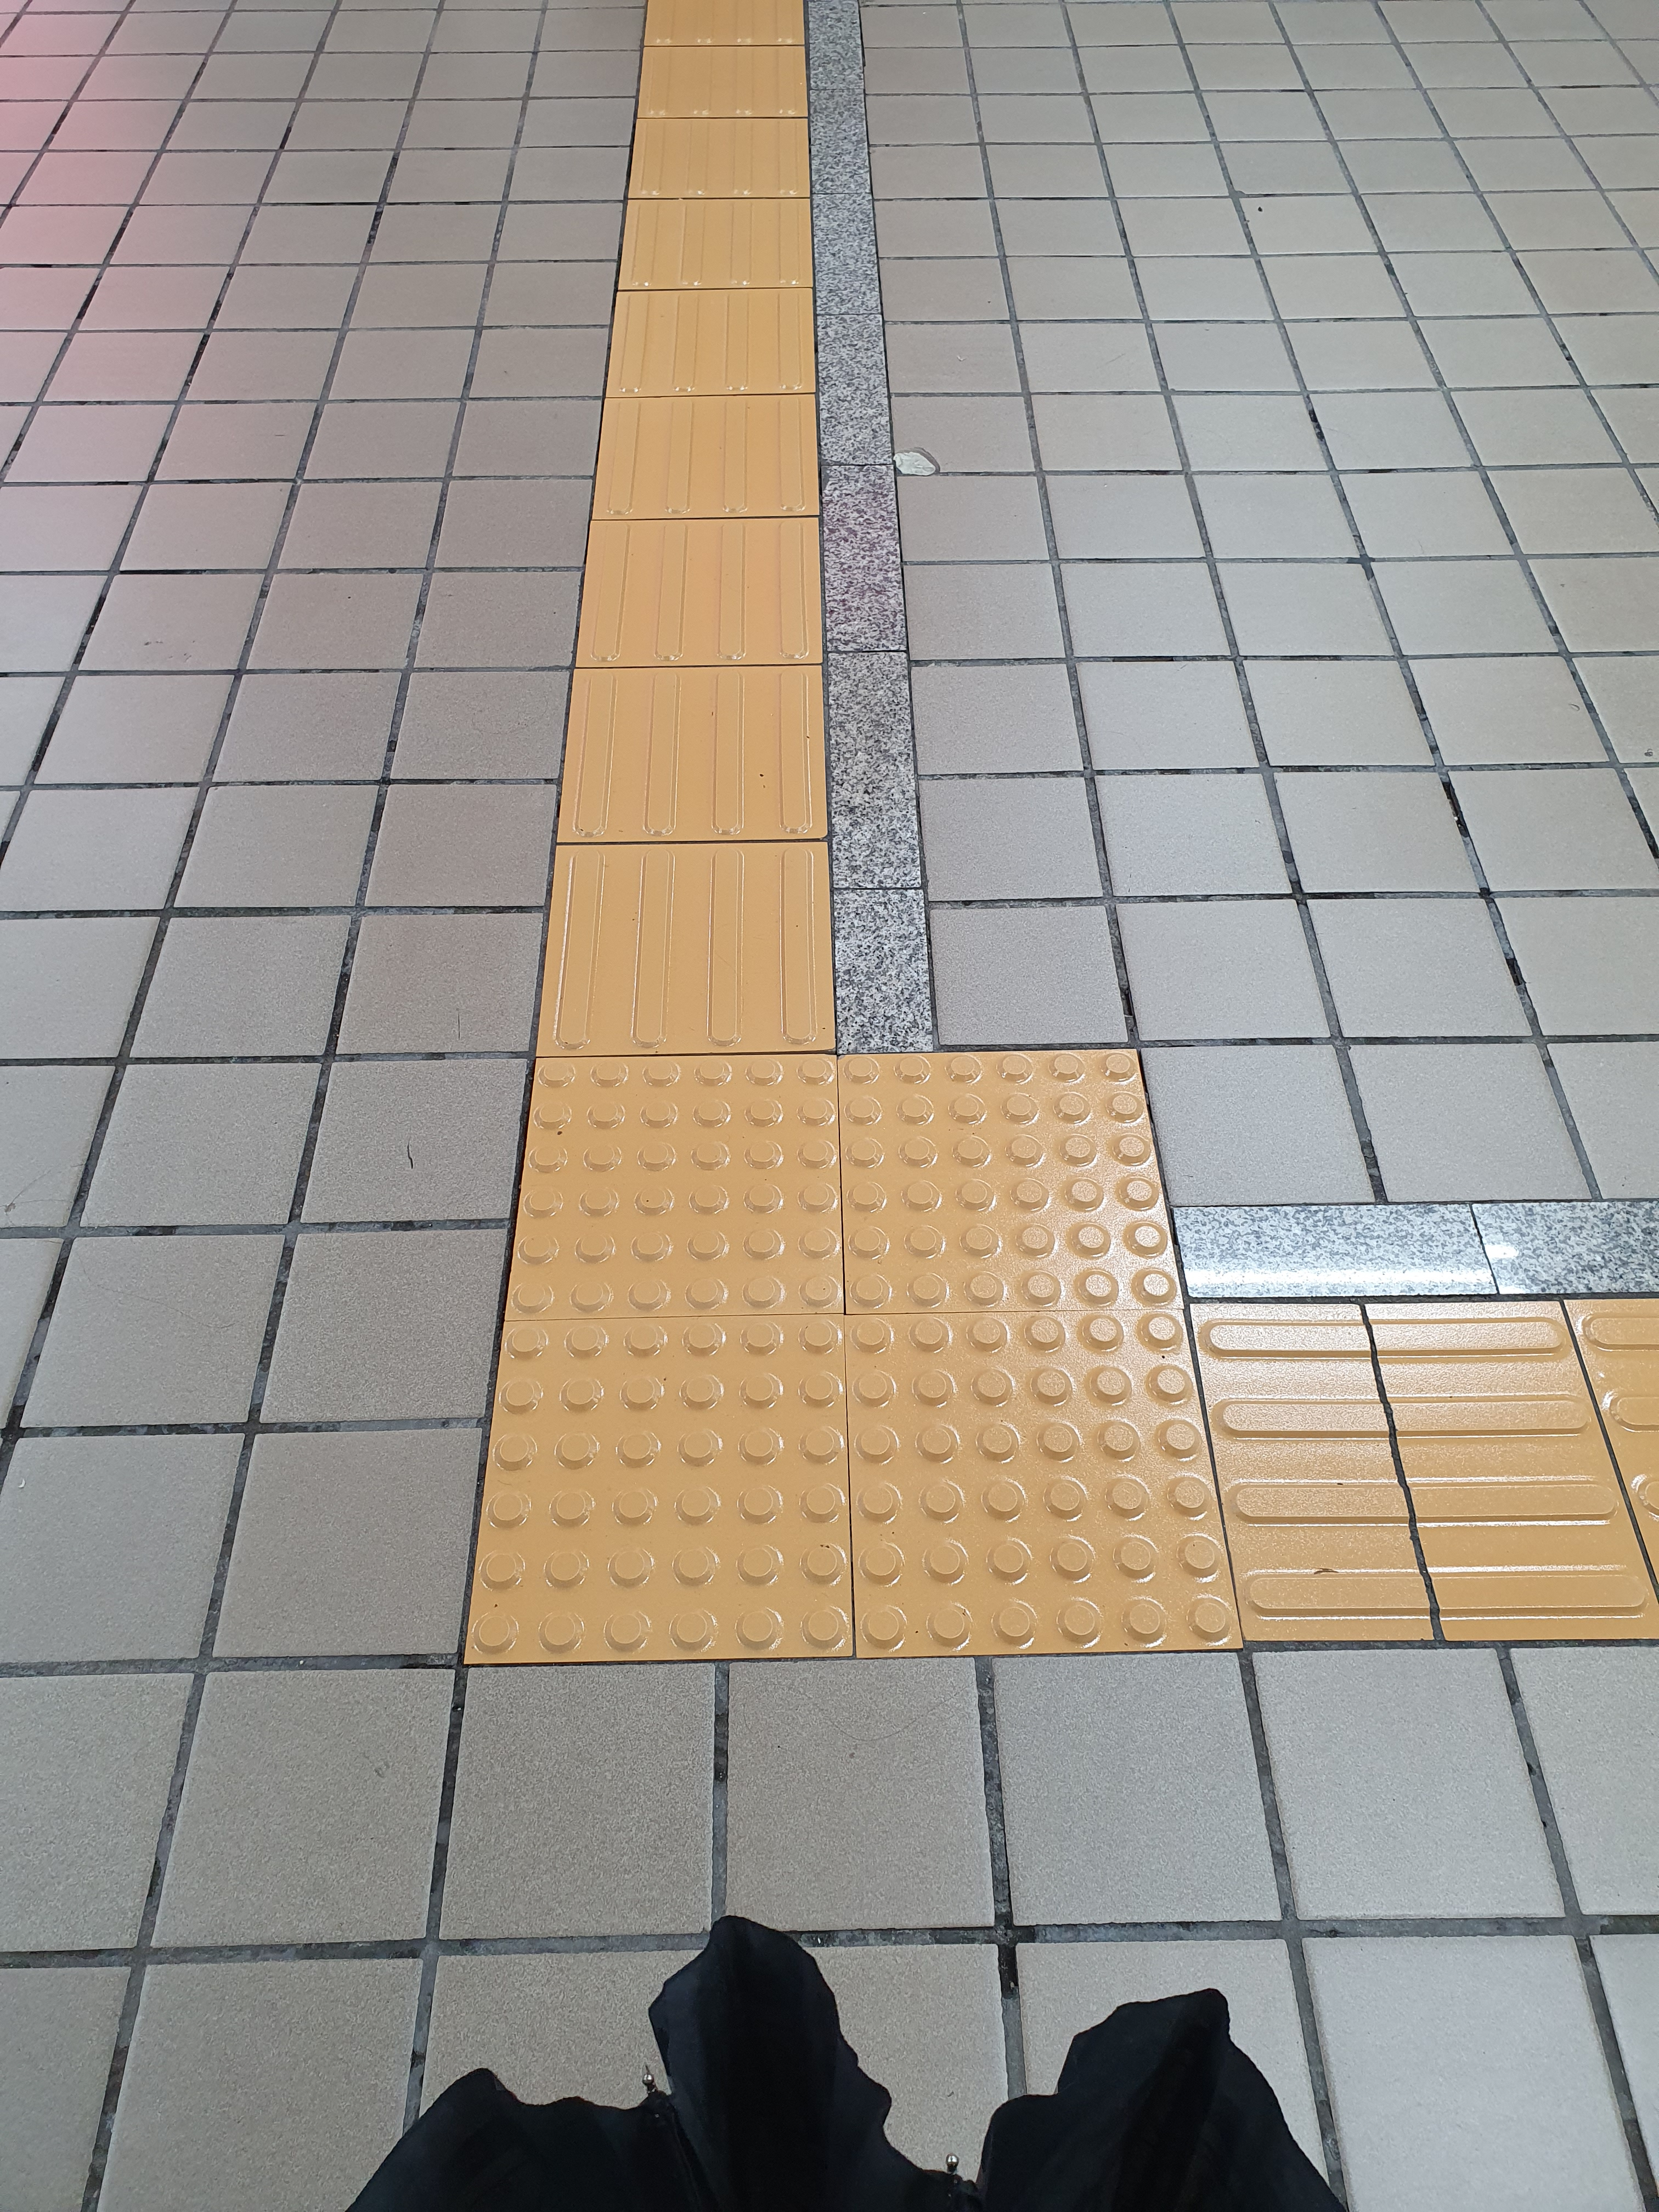guideBlock: (1209, 1282, 1647, 1608), (551, 841, 861, 1059), (586, 674, 856, 866), (599, 519, 831, 681), (596, 408, 823, 523), (598, 305, 838, 413), (631, 207, 842, 314), (647, 99, 835, 202), (648, 42, 824, 138)
warningBlock: (849, 1315, 1232, 1644), (521, 1320, 857, 1660), (835, 1055, 1175, 1315), (533, 1059, 842, 1315)
